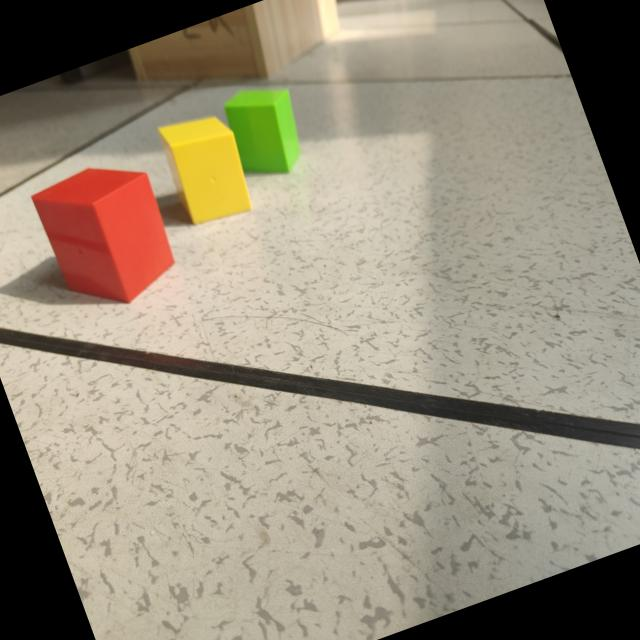green: (224, 88, 302, 176)
red: (33, 168, 177, 305)
yellow: (159, 118, 252, 225)
